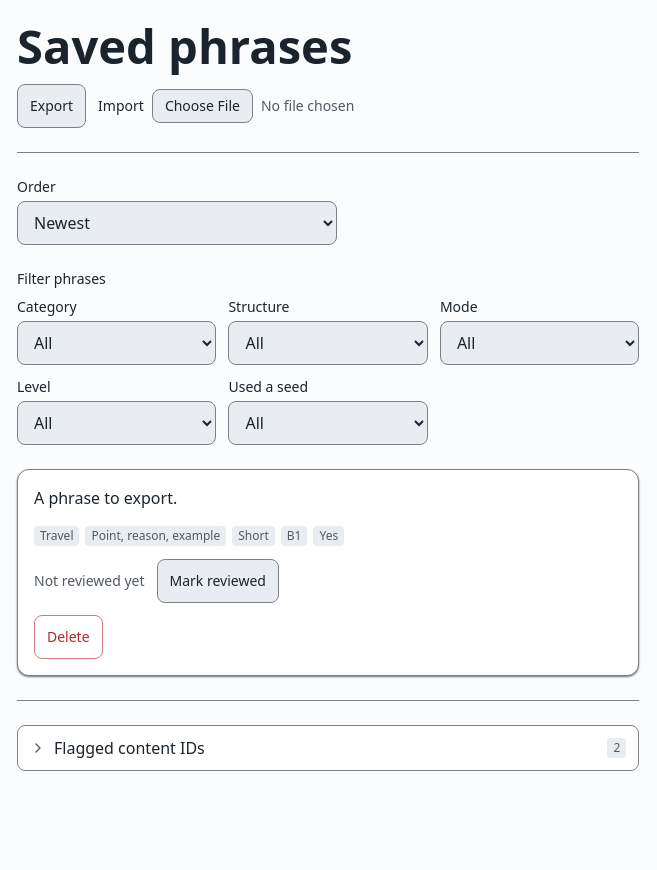
Test case: PhrasesPage › renders flagged topic and seed ids in read-only copyable fields
What coordinates should you click on to do the following:
click the heading "Flagged content IDs 2"
I would click on:
 (129, 748)
Its box is [30, 738, 626, 760].
(page scrolled)
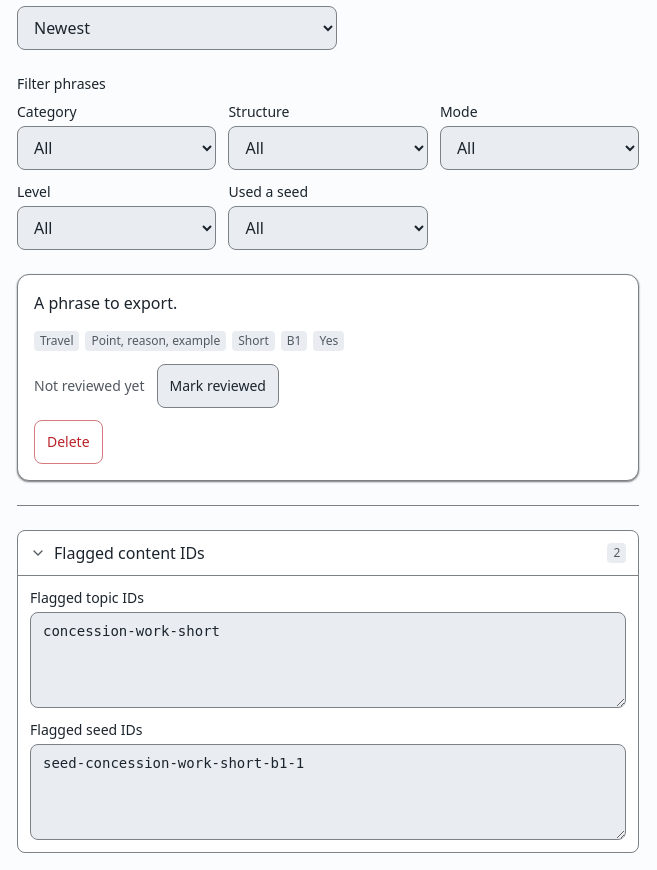
Expected: the text box labelled "Flagged topic IDs" holds "concession-work-short", [30, 612, 626, 708]
Expected: the text box labelled "Flagged seed IDs" holds "seed-concession-work-short-b1-1", [30, 744, 626, 840]
